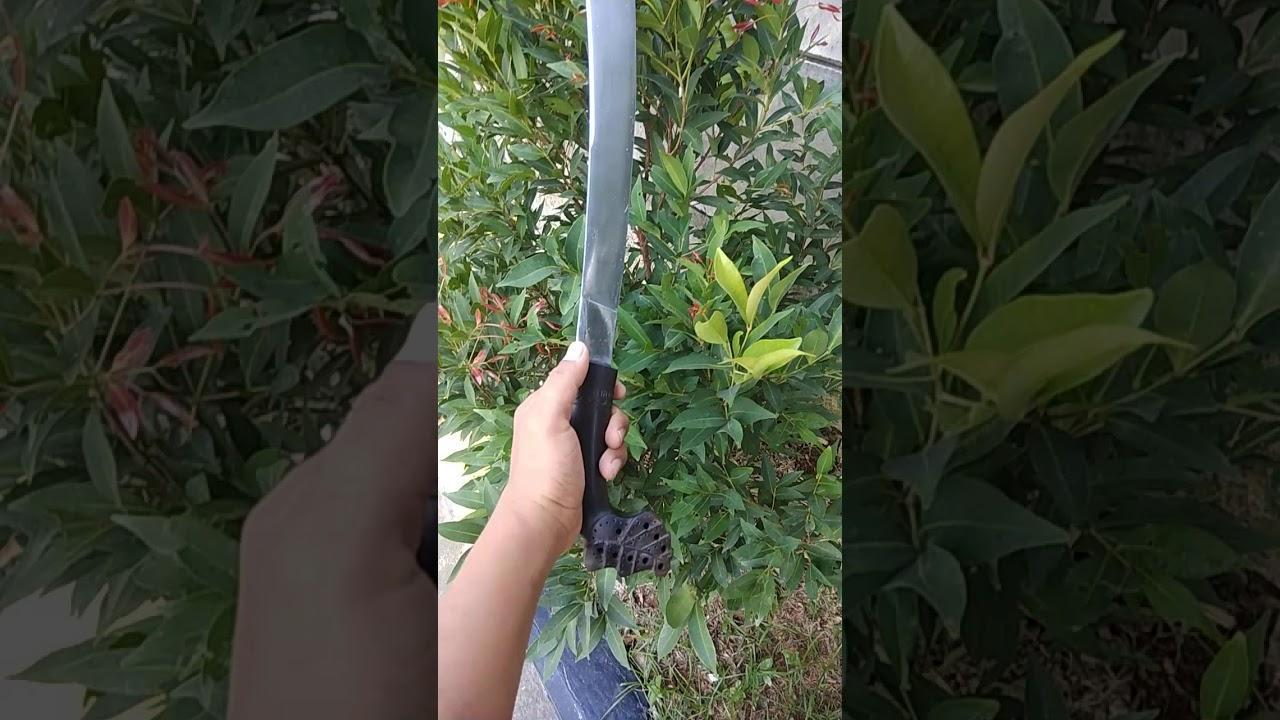facao: (542, 0, 644, 504)
